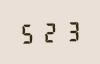five: (18, 21, 38, 44)
three: (61, 19, 81, 42)
two: (40, 20, 60, 43)
